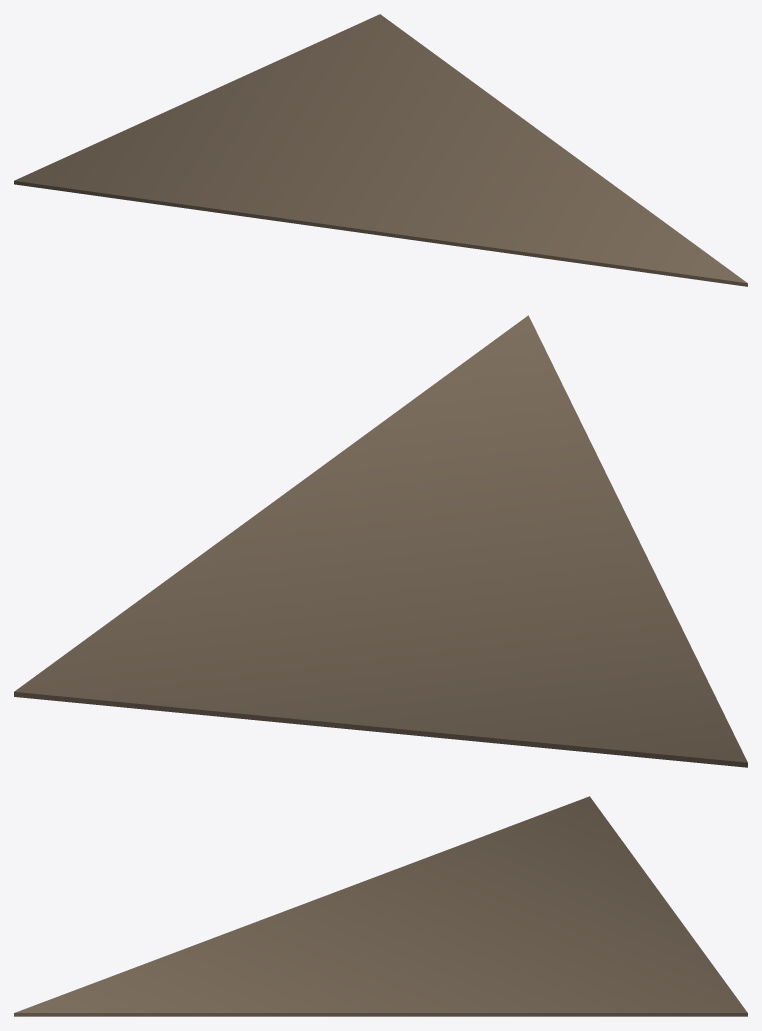
File: floor 4.fbx
3 views of the same model, one above another, from view 1: azimuth 30°, elevation 25°; view 2: azimuth 150°, elevation 25°; view 3: azimuth 270°, elevation 25° (orthographic). The views are drawn at different scales.
Parts seen in each view (by area): view 1: Cube.477; view 2: Cube.477; view 3: Cube.477.
Boxes of the visible parts, <box> form: Cube.477: <box>14,14,747,286</box>; Cube.477: <box>14,315,747,767</box>; Cube.477: <box>14,796,747,1016</box>.
Size of the model in its own units: 799 by 6.19 by 1143.
